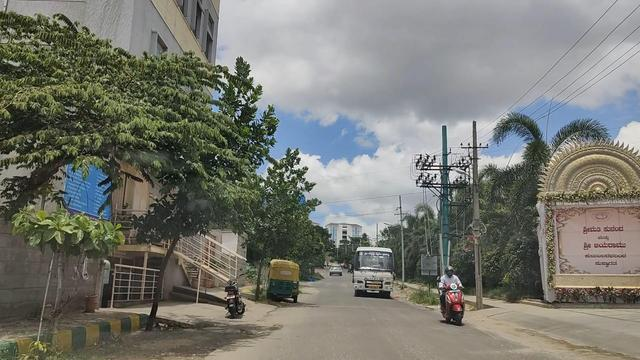HMV: (350, 243, 397, 304)
RoadDamages: (193, 317, 264, 351)
